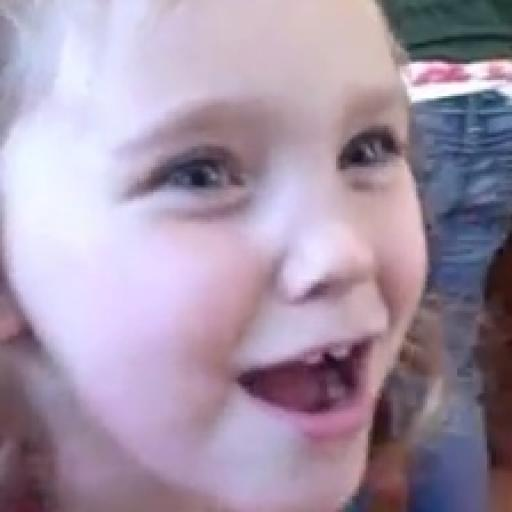Autism: (0, 0, 453, 493)
